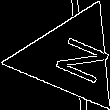N_NW: (35, 29, 105, 86)
